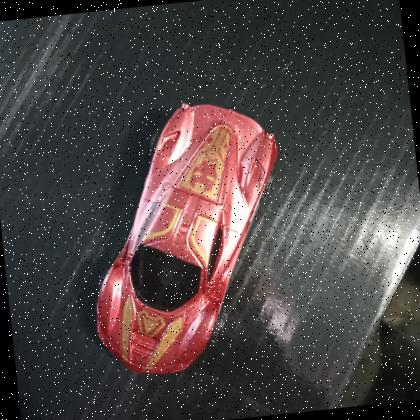Car: (68, 90, 303, 390)
